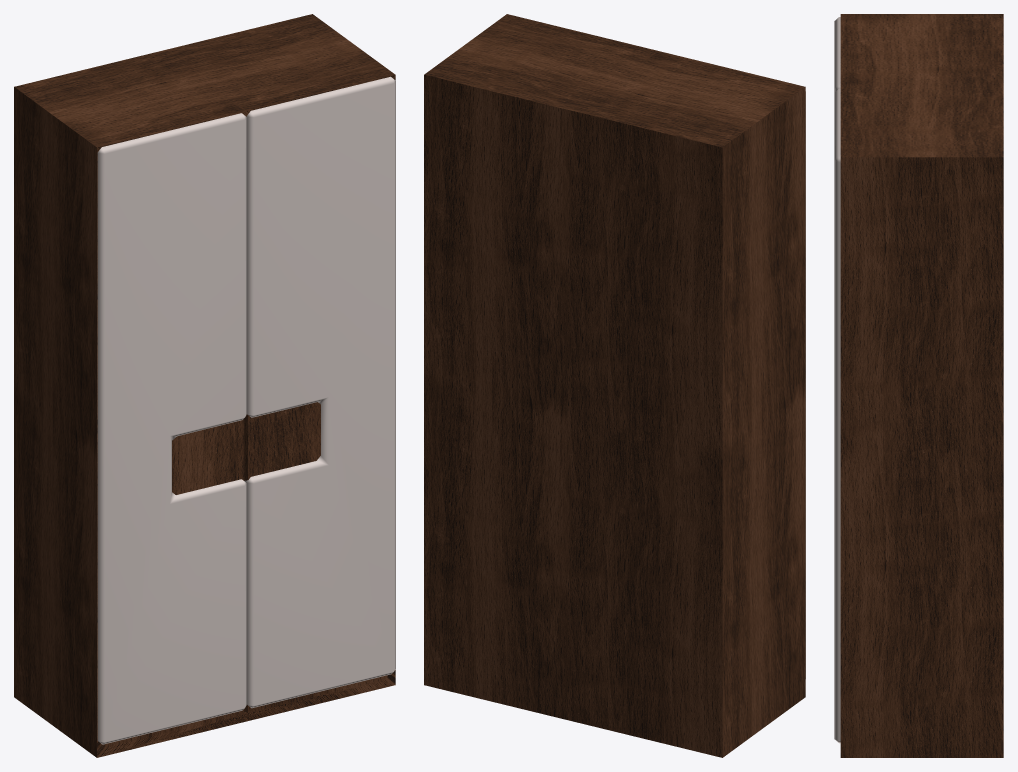
The model's file is cupboard_016.fbx.
3 renders of one model, left to right at view 1: azimuth 30°, elevation 25°; view 2: azimuth 150°, elevation 25°; view 3: azimuth 270°, elevation 25°, orthographic.
Visible parts, largest first — view 1: cupboard_016; view 2: cupboard_016; view 3: cupboard_016.
Part boxes in pixels (<box>): cupboard_016: <box>14,14,395,757</box>; cupboard_016: <box>424,14,805,757</box>; cupboard_016: <box>834,14,1003,757</box>.
Size of the model in its own units: 138 by 69.25 by 271.
